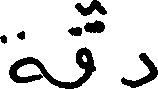X: (0, 26, 44, 87), (77, 0, 93, 88), (122, 48, 157, 88)
